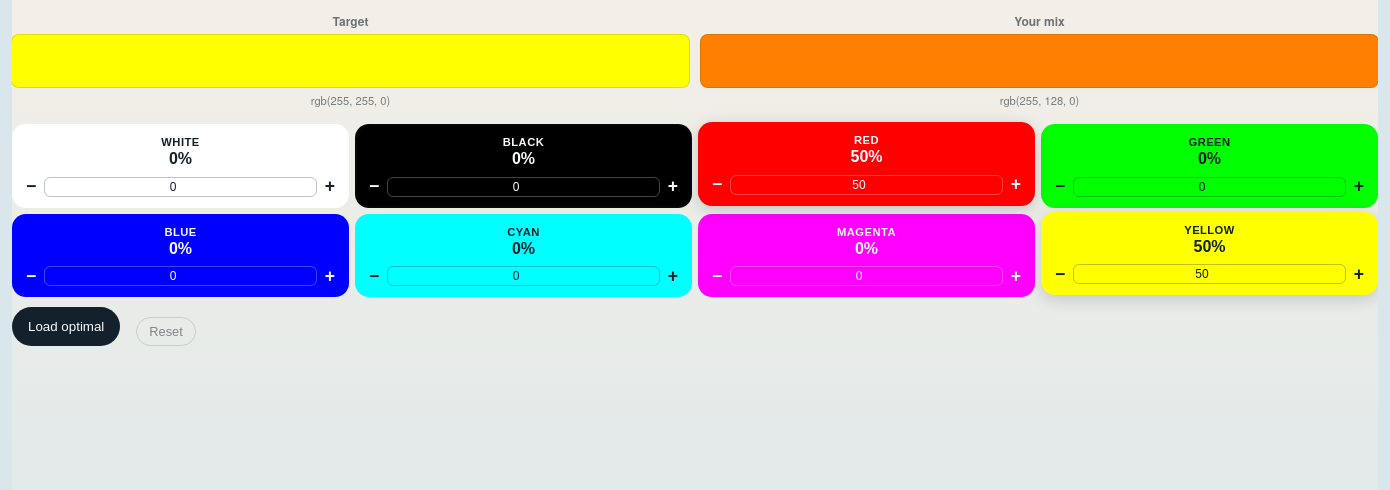
Test: ui coverage › BlendSimulator renders and updates weights
Check: the text "Target" is shown, box [333,12,368,30]
Check: the text "Your mix" is shown, box [1014,12,1065,30]
Click the button with aria-label "Add Red": (866, 147) [700,124,1033,170]
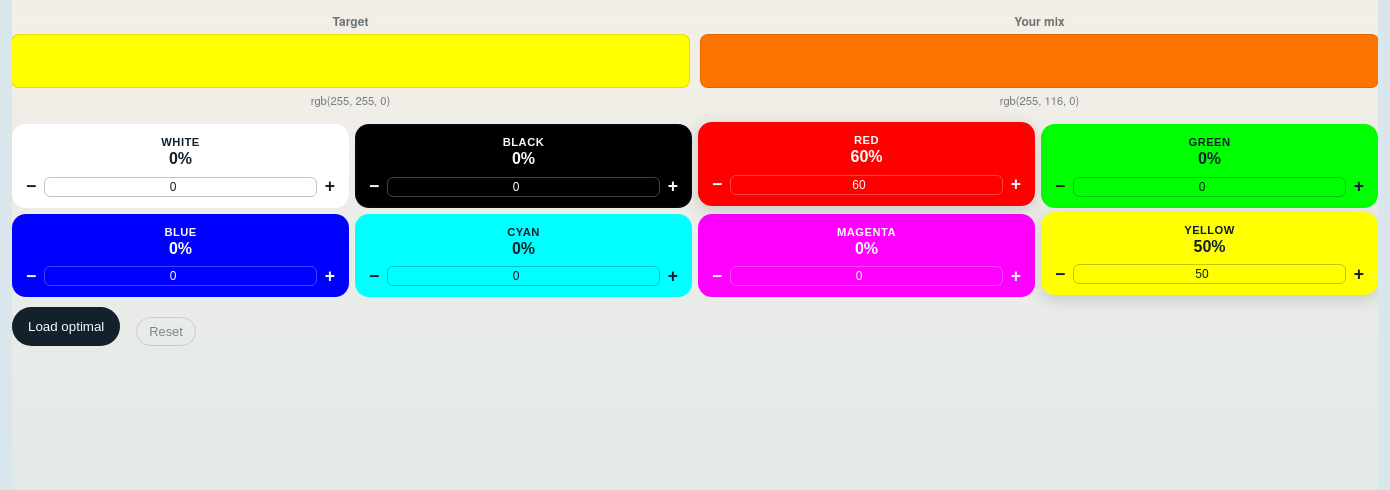
Check: the number field showing "60" is shown, box [730,175,1003,195]
Click the button named "Remove Red": (717, 185) [706,174,728,196]
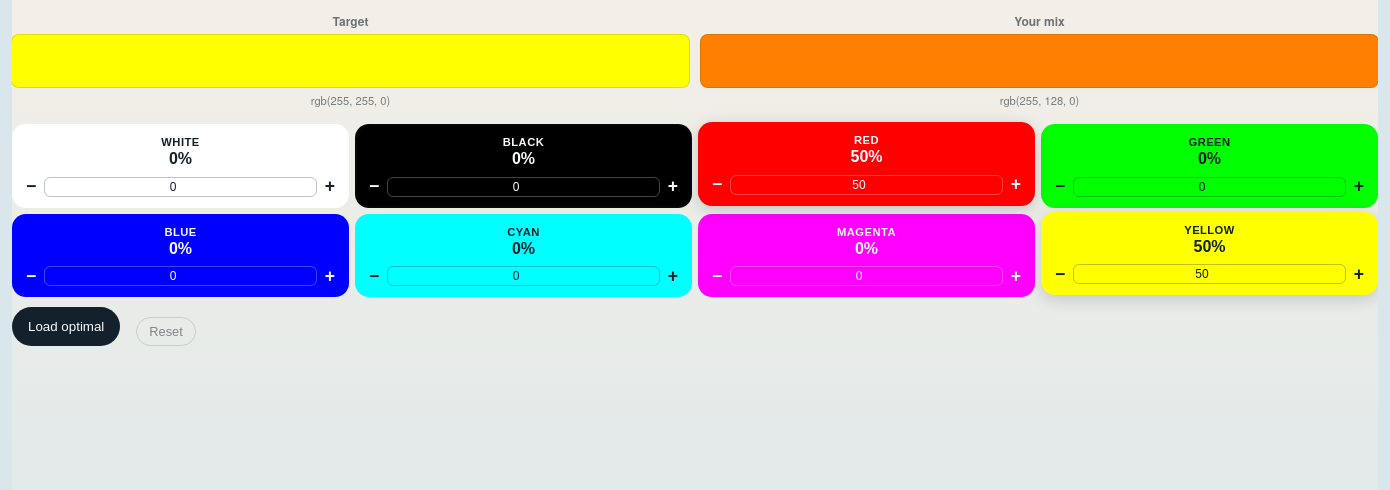
Replace the text in the number field named "Red weight" with "200": (866, 185) [730,175,1003,195]
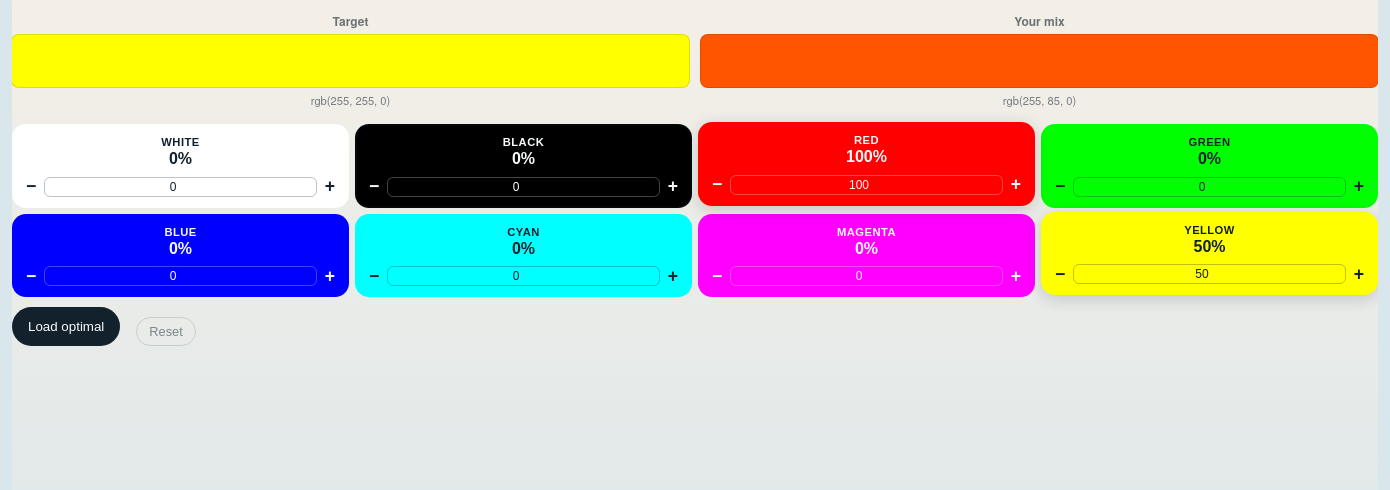
Click the button "Load optimal": (66, 327) [12,307,120,346]
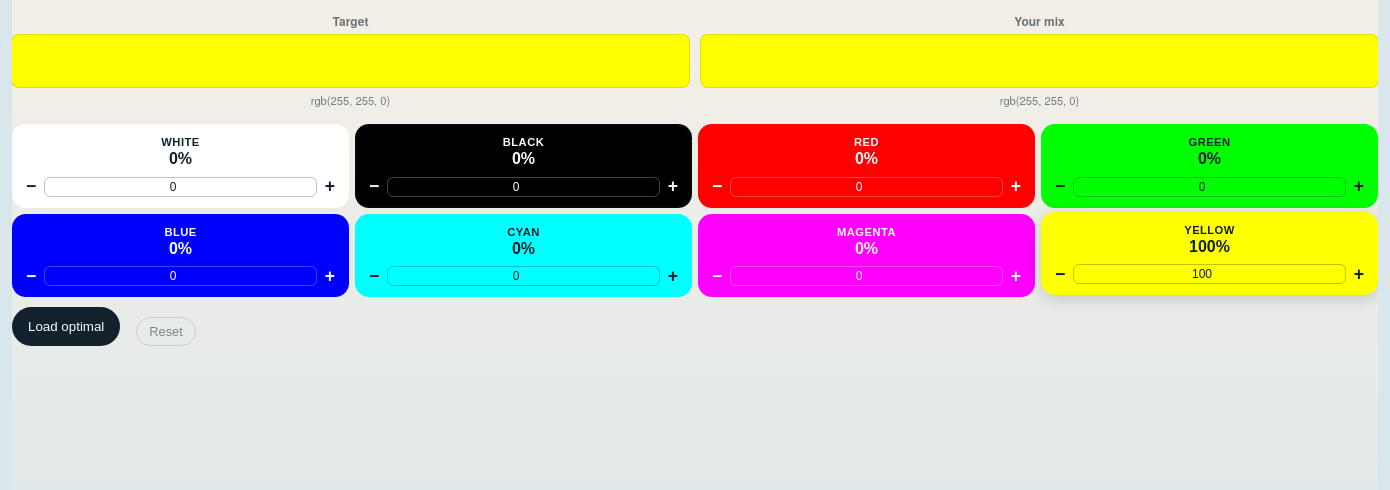
Check: the number field named "Yellow weight" holds "100", box [1073,264,1346,284]
Click the button "Reset": (166, 332) [136,317,196,346]
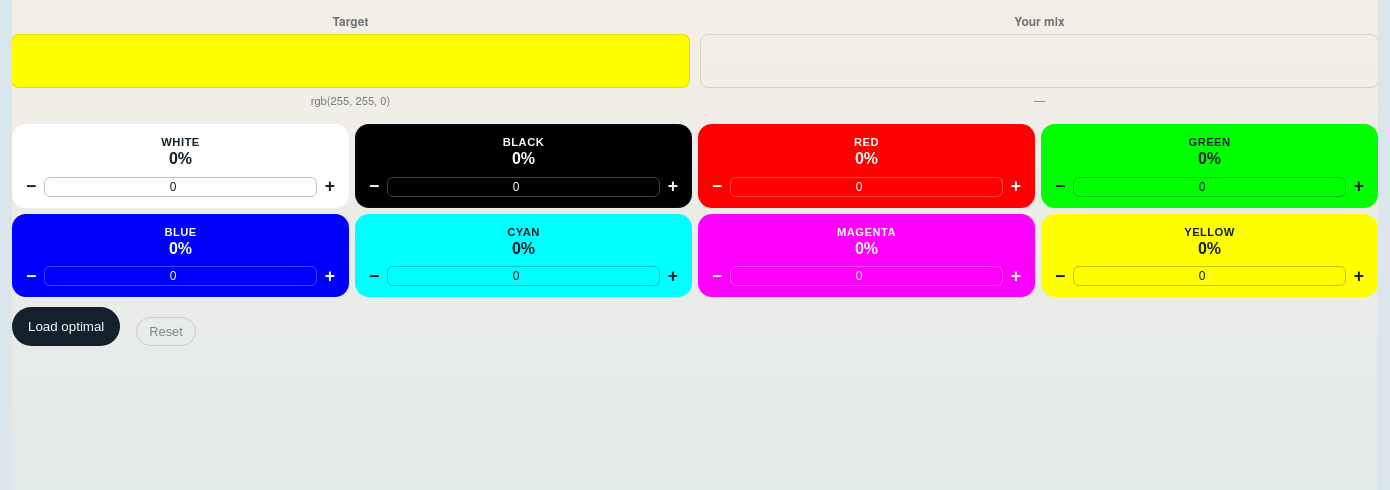
Check: the text "—" is shown, box [1034,92,1045,108]
